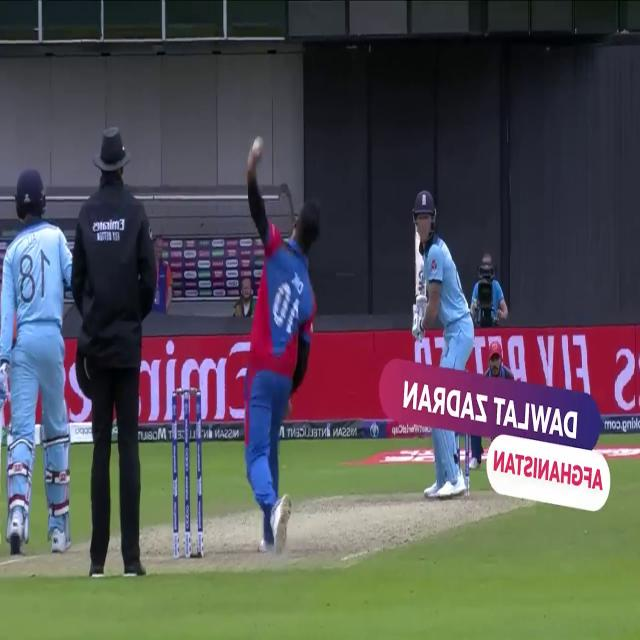ball: (250, 122, 267, 164)
